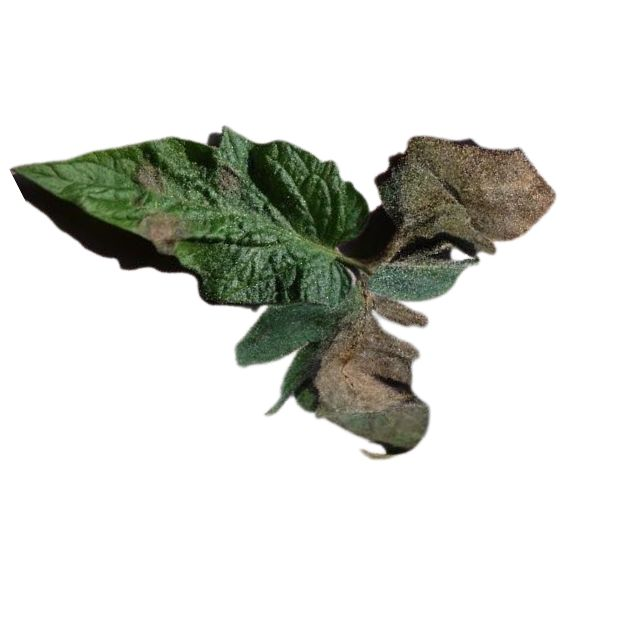Late_blight: (374, 135, 554, 258), (308, 293, 429, 458), (138, 210, 183, 253), (132, 161, 164, 192), (214, 164, 237, 193)
